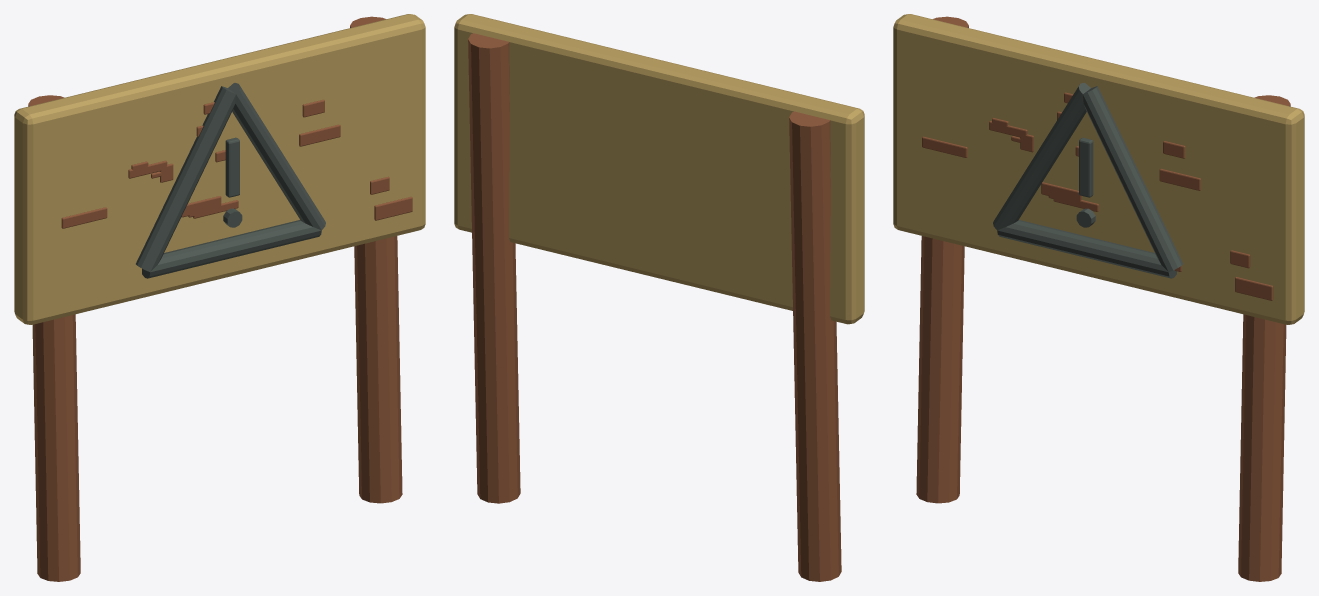
The model's file is Lakebed_Hazard_Sign.glb.
3 renders of one model, left to right at view 1: azimuth 30°, elevation 25°; view 2: azimuth 150°, elevation 25°; view 3: azimuth 330°, elevation 25°, orthographic.
Parts seen in each view (by area): view 1: Structure; view 2: Structure; view 3: Structure.
Boxes of the visible parts, x1=… form: Structure: x1=14, y1=14, x2=425, y2=581; Structure: x1=454, y1=14, x2=864, y2=581; Structure: x1=893, y1=14, x2=1304, y2=581.
Size of the model in its own units: 1.5 by 1.68 by 0.234.
